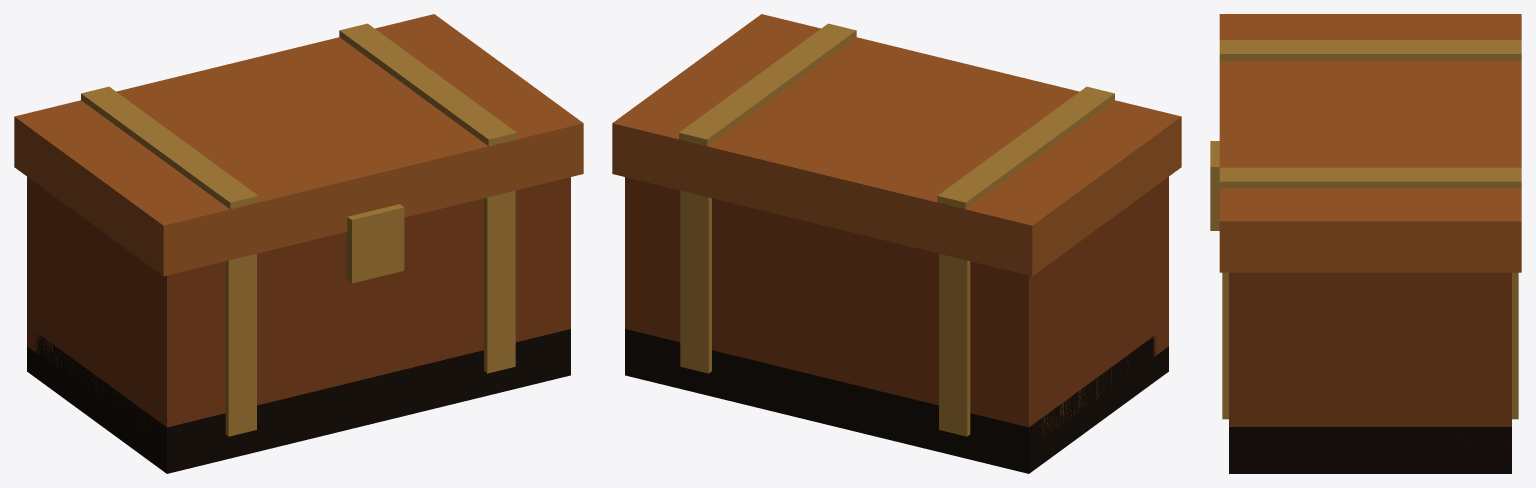
Rendered from closed.glb.
3 renders of one model, left to right at view 1: azimuth 30°, elevation 25°; view 2: azimuth 150°, elevation 25°; view 3: azimuth 270°, elevation 25°, orthographic.
Parts seen in each view (by area): view 1: ChestClosed; view 2: ChestClosed; view 3: ChestClosed.
Boxes of the visible parts, x1,y1,x2,y2 form: ChestClosed: [14, 14, 583, 473]; ChestClosed: [612, 14, 1181, 473]; ChestClosed: [1210, 14, 1521, 473].
Bounding box in the file's own units: 1.04 × 0.616 × 0.6595.
1 material, 1 textured.
